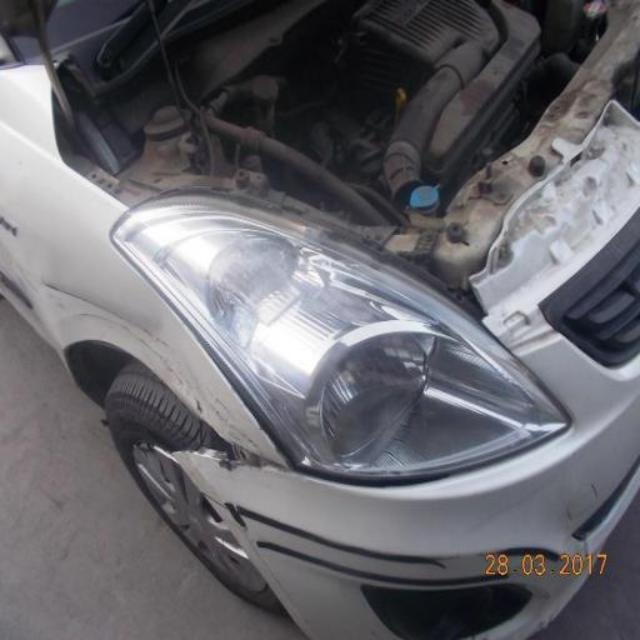crack: (45, 274, 274, 452)
dislocated part: (175, 390, 300, 477)
